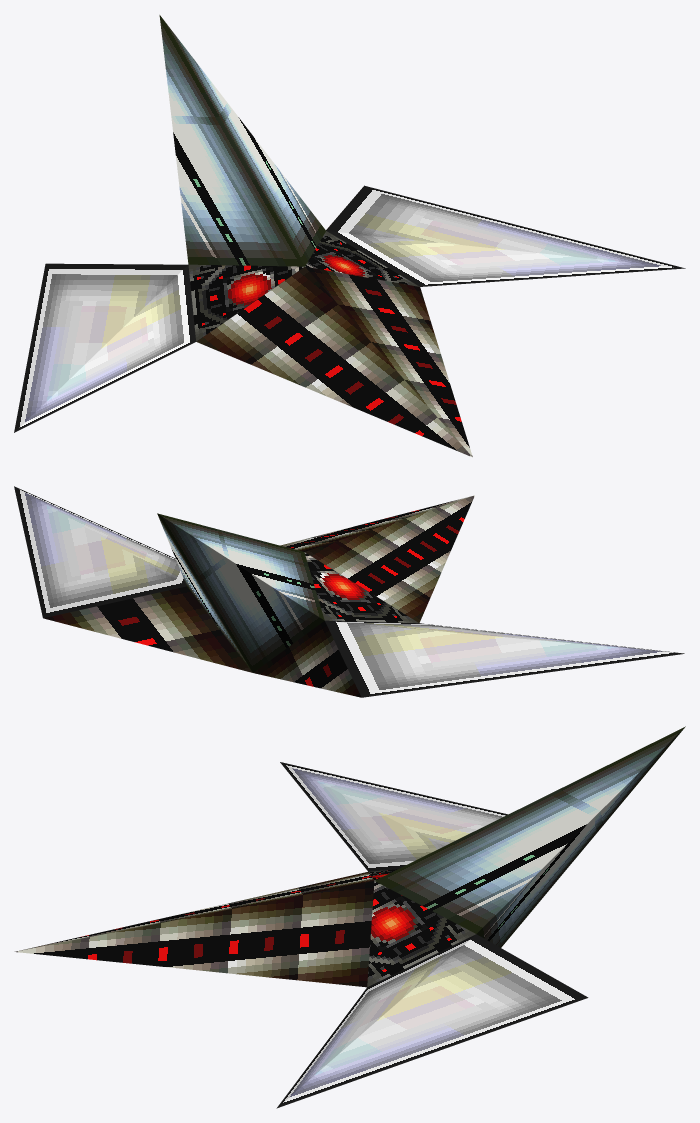
The model's file is Bolse FIghter.obj.
3 views of the same model, one above another, from view 1: azimuth 30°, elevation 25°; view 2: azimuth 150°, elevation 25°; view 3: azimuth 270°, elevation 25° (orthographic). The views are drawn at different scales.
Visible parts, largest first — view 1: ShapeIndexedFaceSet.014_ShapeIndexedFaceSet.113; view 2: ShapeIndexedFaceSet.014_ShapeIndexedFaceSet.113; view 3: ShapeIndexedFaceSet.014_ShapeIndexedFaceSet.113.
Boxes of the visible parts, left/top/right/bottom form: ShapeIndexedFaceSet.014_ShapeIndexedFaceSet.113: left=14, top=15, right=685, bottom=457; ShapeIndexedFaceSet.014_ShapeIndexedFaceSet.113: left=14, top=486, right=684, bottom=697; ShapeIndexedFaceSet.014_ShapeIndexedFaceSet.113: left=14, top=726, right=685, bottom=1108.
Size of the model in its own units: 4.68 by 1.53 by 3.81.
Materials: 4 (4 with a texture image).
